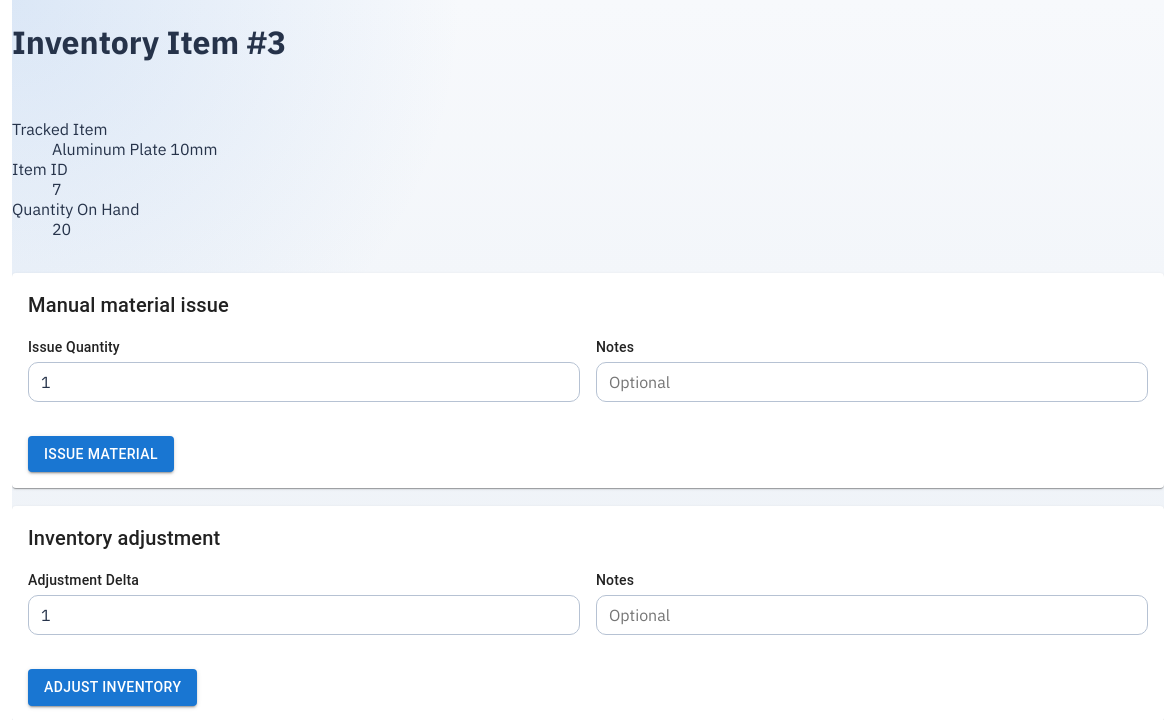
Scenario: InventoryItemDetailView › updates quantity on hand and transaction list after successful adjustment
This screenshot has width=1164, height=720.
Replace the text in the number field labelled "Adjustment Delta" with "-4": (304, 615) [28,595,580,635]
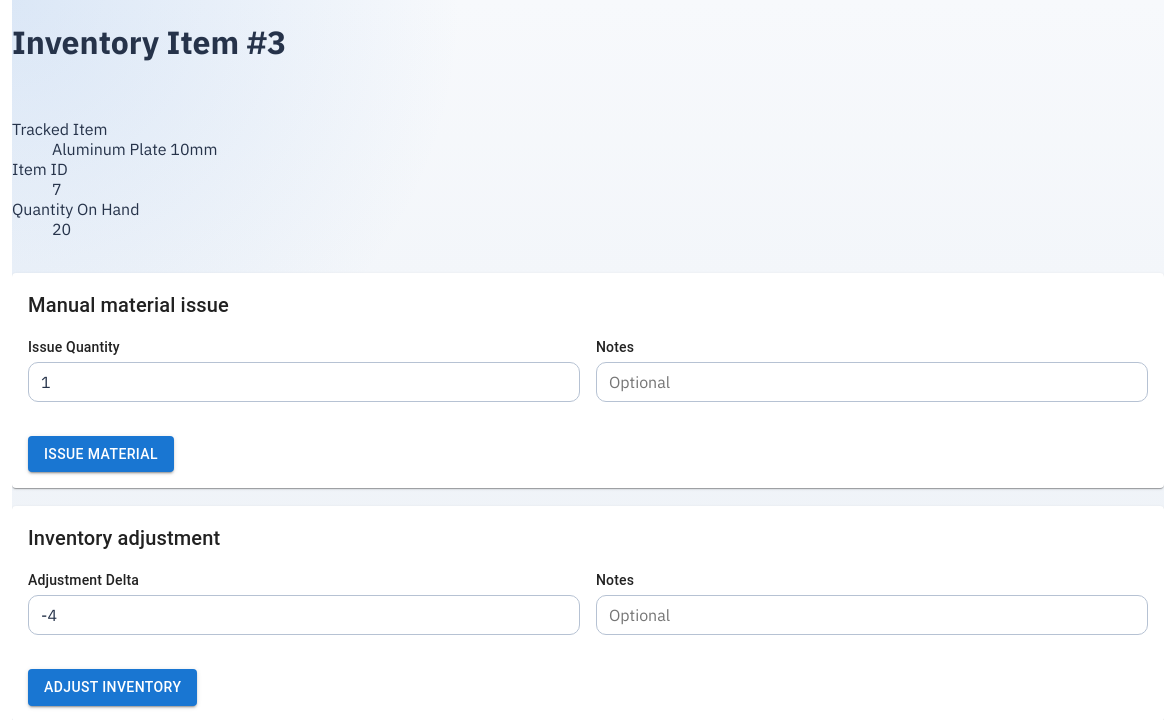
In the 2nd field labelled "Notes": (872, 615) [596,595,1148,635], type "Count correction"
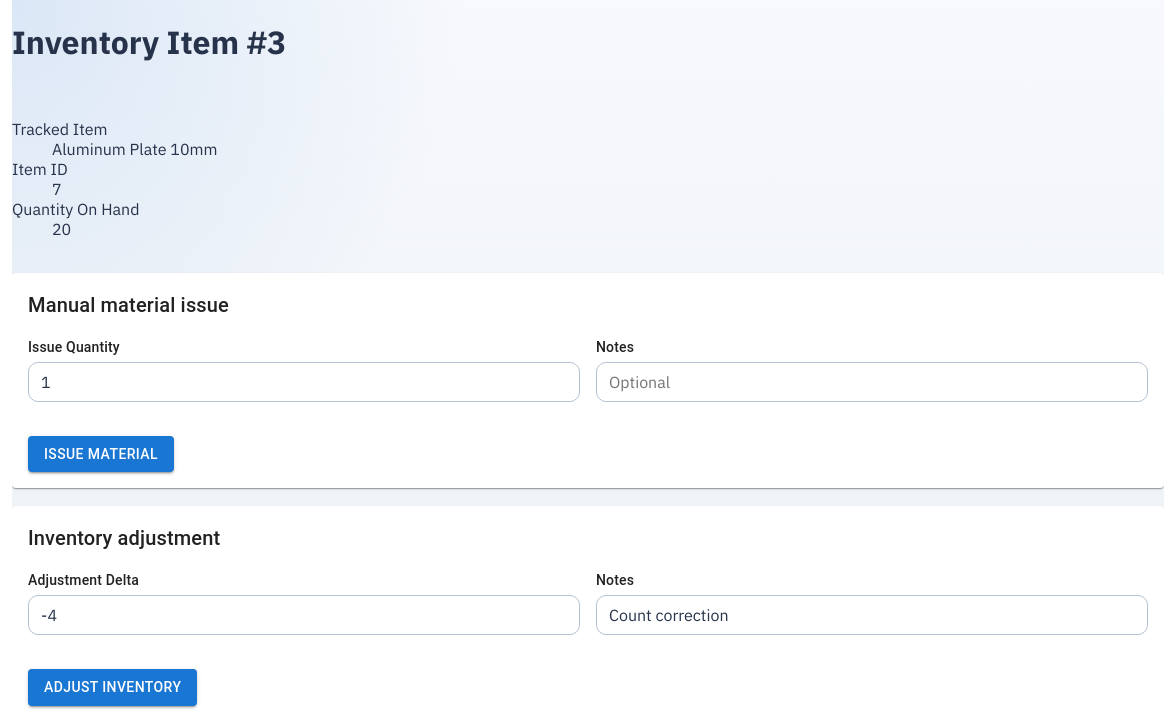
Click the button "Adjust inventory": (113, 687) [28,669,197,706]
(page scrolled)
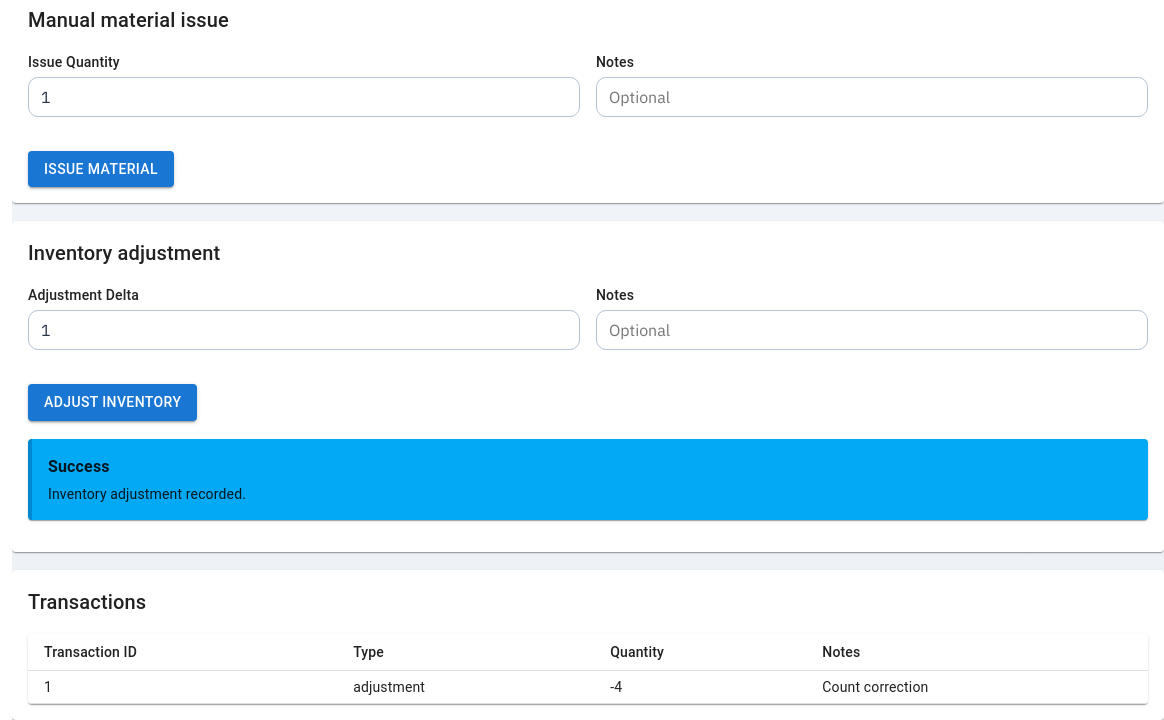
Result: the text "adjustment" is shown at [337,671,594,704]
Result: the text "-4" is shown at [594,671,806,704]
Result: the text "Count correction" is shown at [806,671,1148,704]
